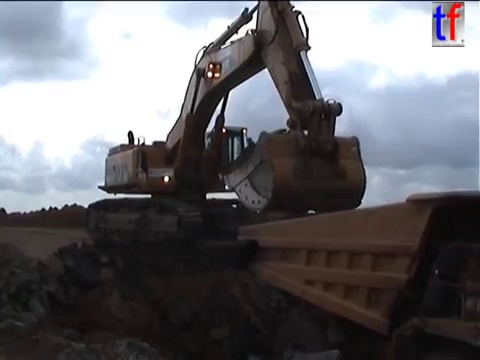excavator: (82, 1, 370, 249)
truck: (232, 186, 480, 360)
